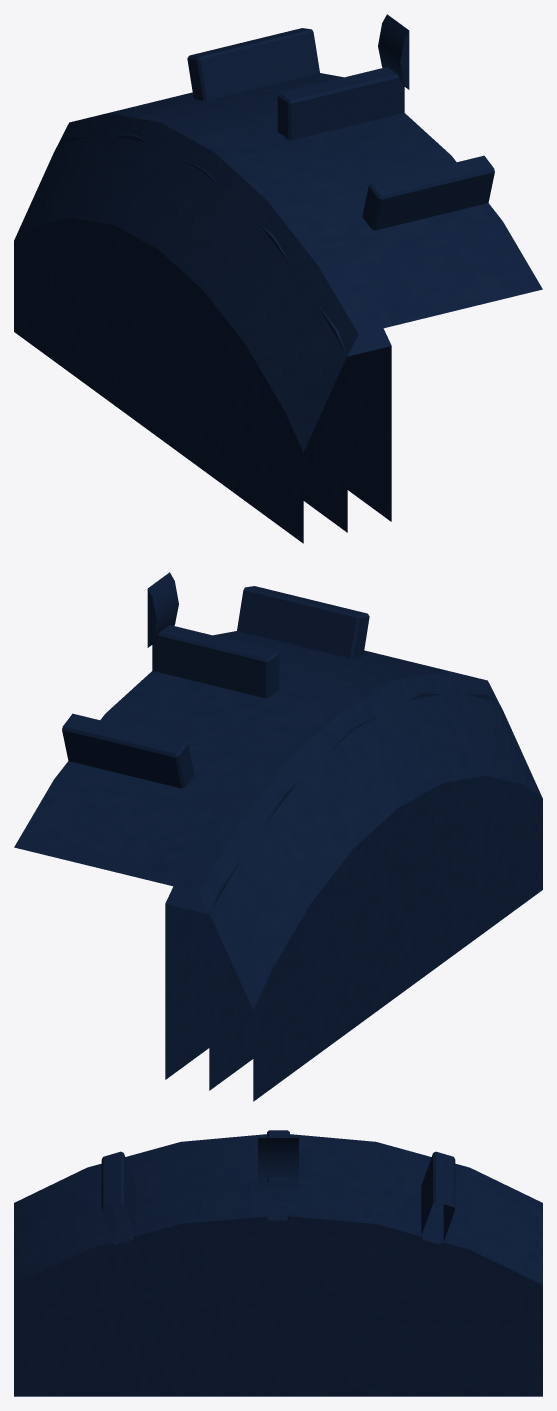
File: cell_60.obj
The picture shows the model from 3 angles, top to bottom: view 1: azimuth 30°, elevation 25°; view 2: azimuth 150°, elevation 25°; view 3: azimuth 270°, elevation 25°; orthographic projection. The views are drawn at different scales.
Visible parts, largest first — view 1: cell_60; view 2: cell_60; view 3: cell_60.
Part boxes in pixels (x1,y1,x2,y2): cell_60: [14, 14, 542, 543]; cell_60: [14, 572, 542, 1101]; cell_60: [14, 1130, 542, 1396].
Size of the model in its own units: 0.4775 by 0.6804 by 1.
